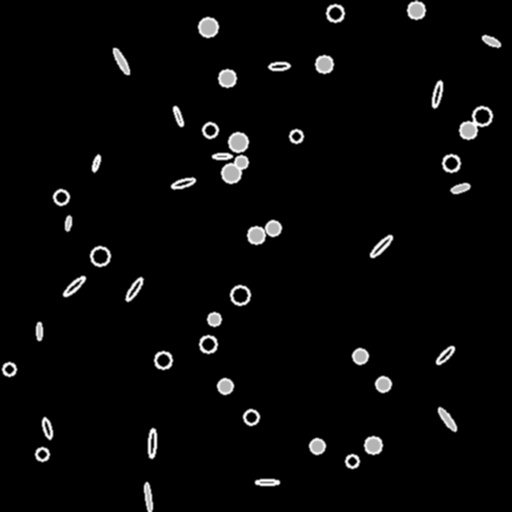pseudomonas: (368, 233, 394, 259), (111, 47, 131, 75), (62, 275, 86, 297), (124, 276, 144, 302), (434, 344, 456, 366), (437, 407, 457, 431), (431, 80, 443, 108), (171, 177, 195, 189), (481, 34, 501, 48), (450, 182, 470, 194), (148, 428, 156, 458), (144, 482, 152, 512), (172, 106, 184, 126), (42, 418, 52, 438), (269, 62, 289, 70), (91, 155, 101, 171), (64, 215, 72, 231), (212, 153, 232, 159), (256, 479, 278, 484), (36, 323, 42, 339)
synechocystis: (91, 247, 109, 265), (229, 133, 247, 151), (231, 286, 249, 304), (199, 18, 217, 36), (222, 164, 240, 182), (473, 107, 491, 125), (200, 336, 216, 352), (408, 2, 424, 18), (248, 227, 264, 243), (365, 437, 381, 453), (219, 70, 235, 86), (443, 155, 459, 171), (316, 56, 332, 72), (327, 5, 343, 21), (155, 352, 171, 368), (460, 122, 476, 138), (266, 221, 280, 235), (244, 410, 258, 424), (54, 190, 68, 204), (218, 379, 232, 393), (376, 377, 390, 391), (310, 439, 324, 453), (353, 349, 367, 363), (203, 123, 217, 137), (346, 455, 358, 467), (36, 448, 48, 460), (3, 363, 15, 375), (208, 313, 220, 325), (235, 156, 247, 168), (290, 130, 302, 142)
